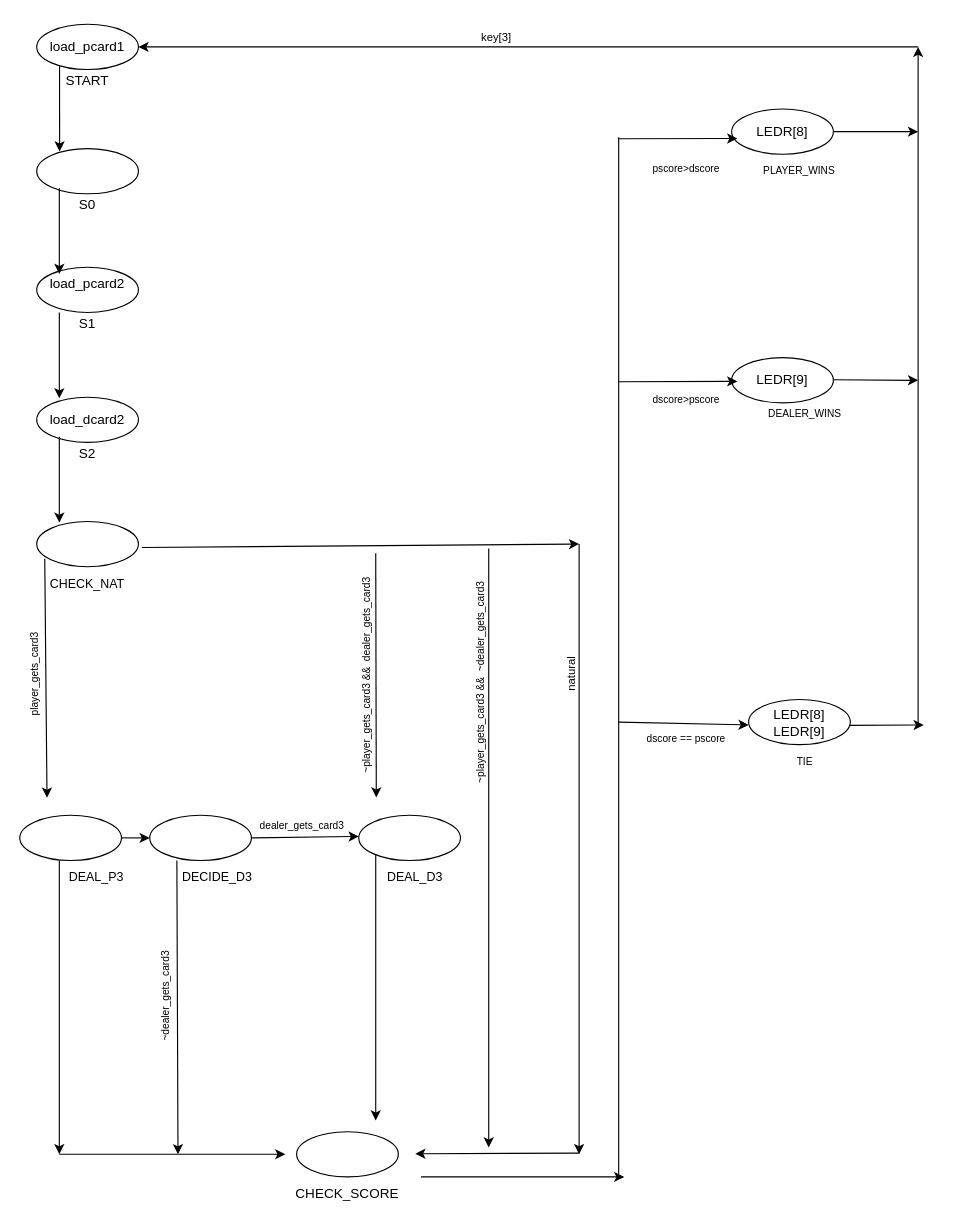
The diagram is 953 pixels wide and 1229 high, and some of its shapes have lost their labels. The centre of each missing label's shape, as x and y in pixels:
load_dcard1: point 87,170
load_dcard3: point 409,837
load_pcard3: point 70,837
